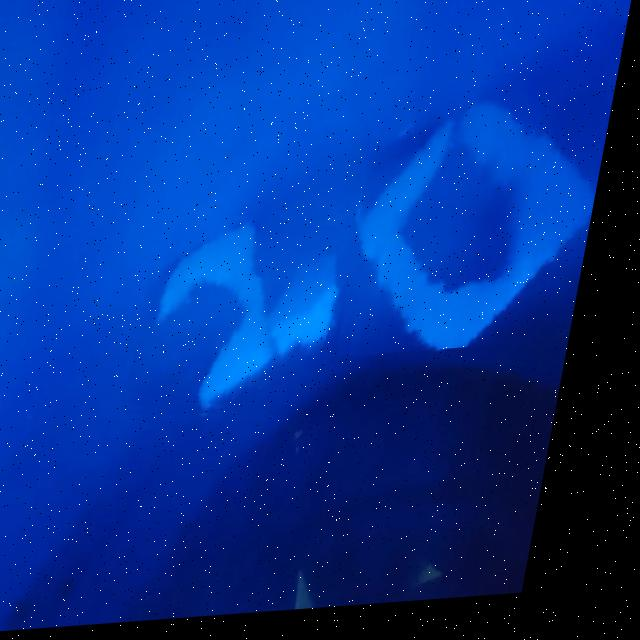litter: (345, 73, 624, 364), (137, 214, 368, 427), (147, 219, 315, 428), (269, 239, 368, 365)
